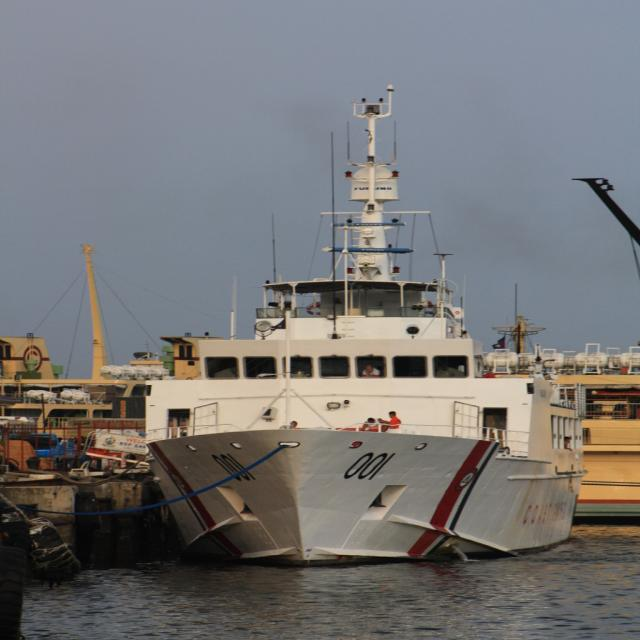Boat: (111, 92, 614, 580)
